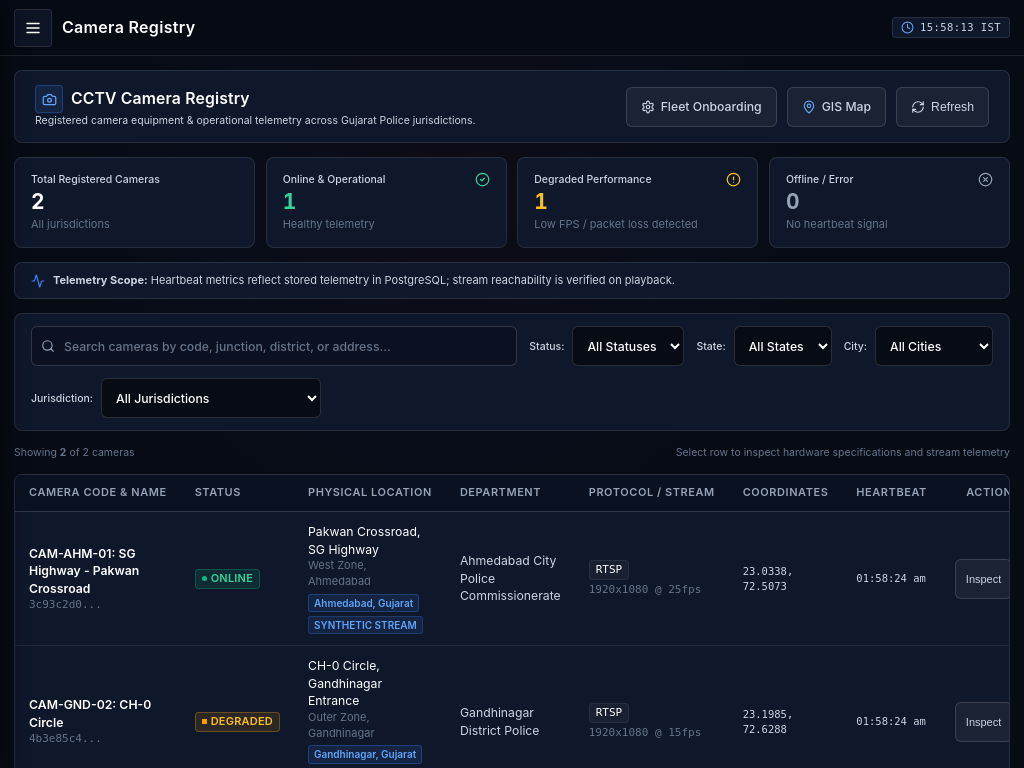
Test: Camera Registry UI Component (Phase 4B) › opens CameraDetailDrawer upon clicking a camera row
// Click on camera row
Click the text "CAM-AHM-01: SG Highway - Pakwan Crossroad" at (84, 571), box [29,546,139,596]
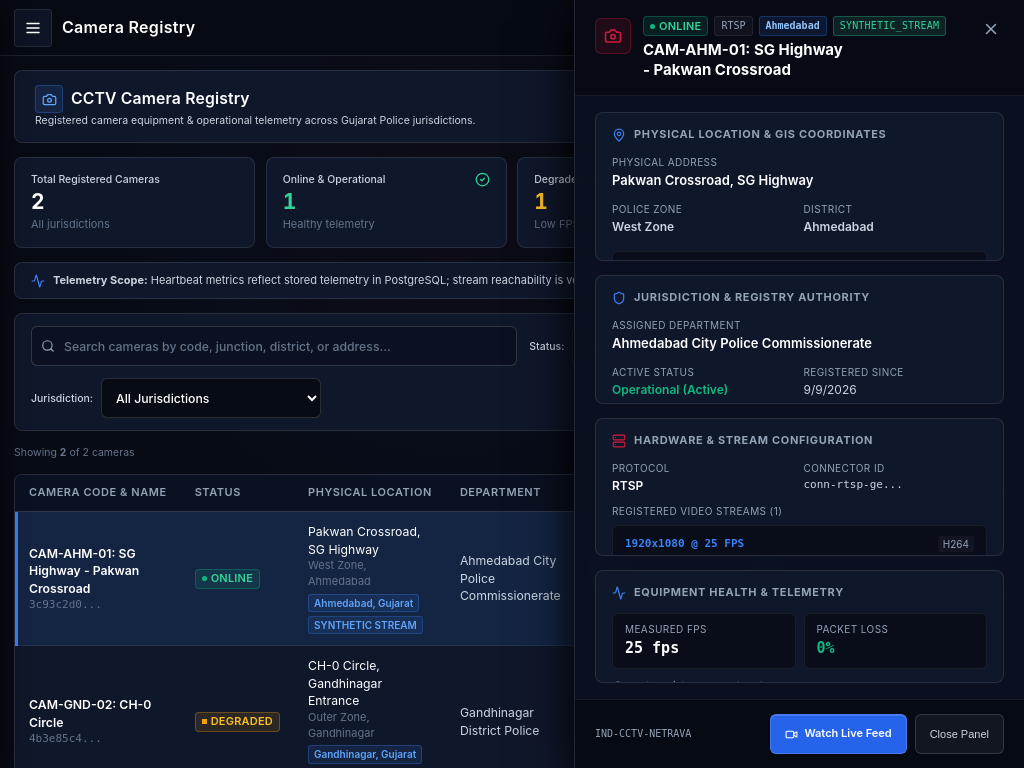
expect the dialog is shown: met, box [574,0,1023,767]
expect the text "Physical Location & GIS Coordinates" is shown: met, box [634,127,886,143]
expect the text "Hardware & Stream Configuration" is shown: met, box [634,433,873,449]
